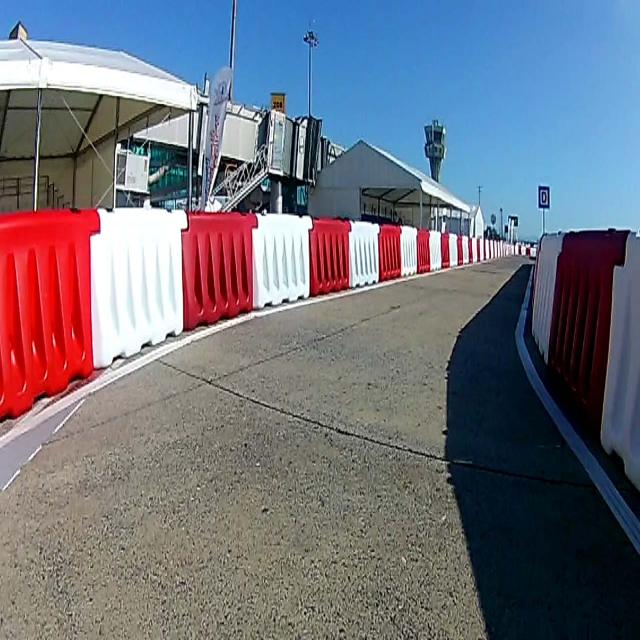durak: (538, 187, 550, 208)
